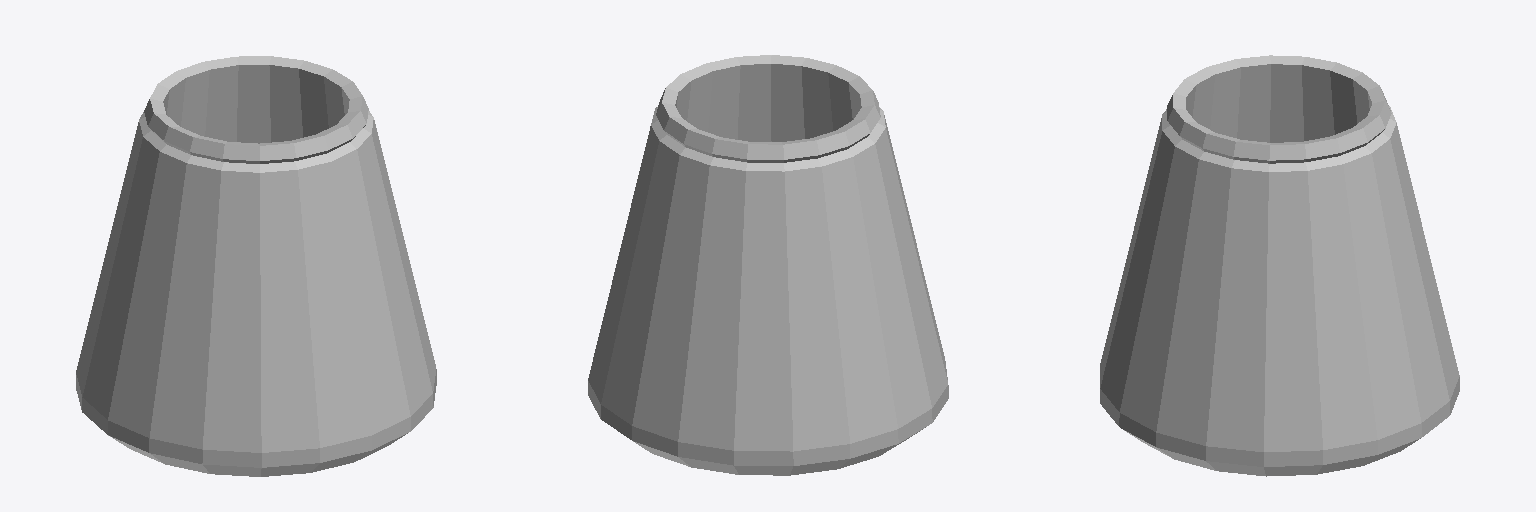
File: VaseA.obj
3 renders of one model, left to right at view 1: azimuth 30°, elevation 25°; view 2: azimuth 150°, elevation 25°; view 3: azimuth 270°, elevation 25°, orthographic.
Visible parts, largest first — view 1: Jar_Cone; view 2: Jar_Cone; view 3: Jar_Cone.
Boxes of the visible parts, <box> form: Jar_Cone: <box>76,56,436,476</box>; Jar_Cone: <box>588,55,948,475</box>; Jar_Cone: <box>1100,55,1459,476</box>.
Bounding box in the file's own units: 1.03 × 0.9776 × 1.03.